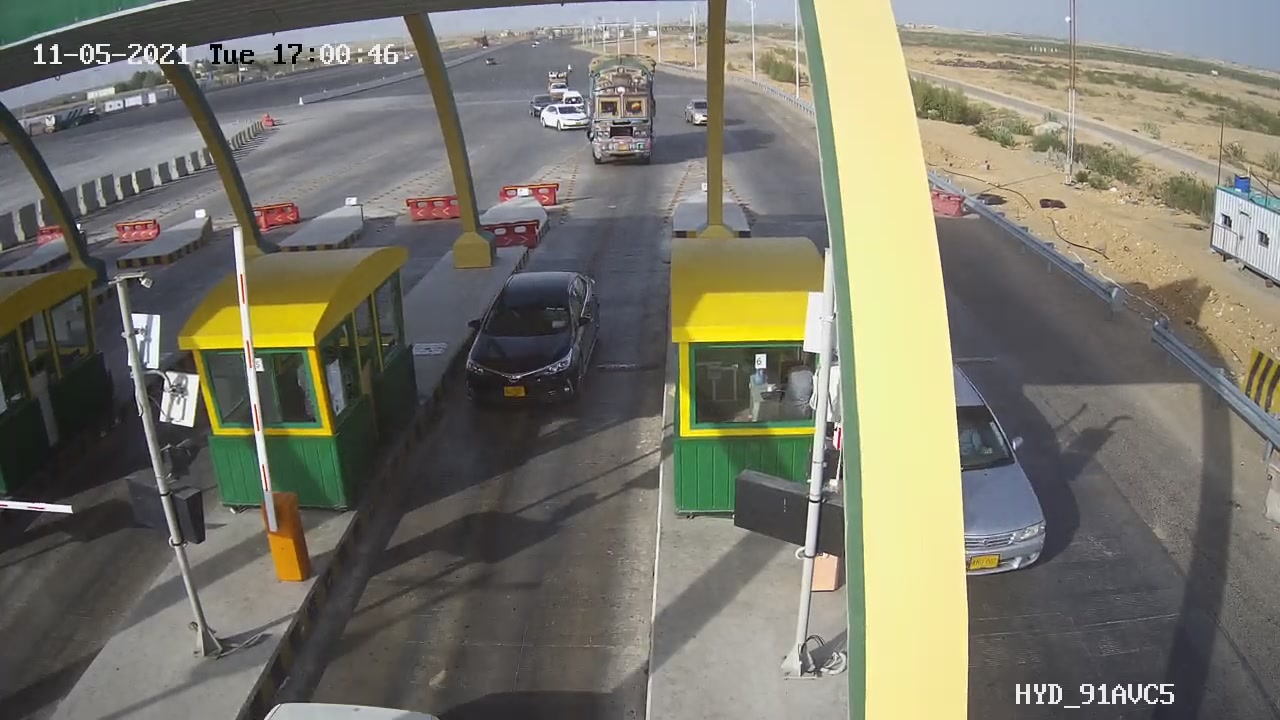F1: (446, 256, 616, 429)
